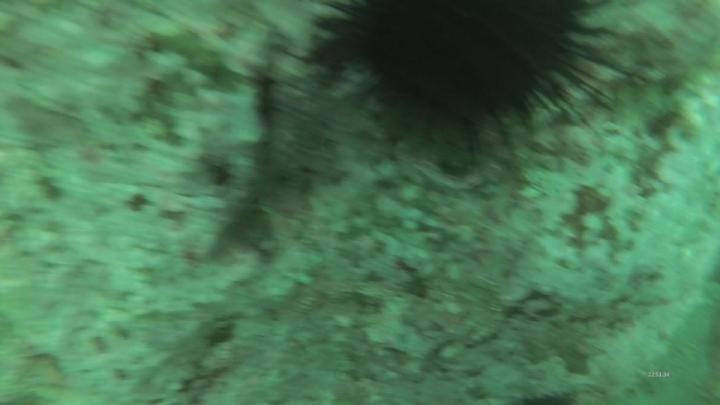echinus: (326, 5, 597, 133)
